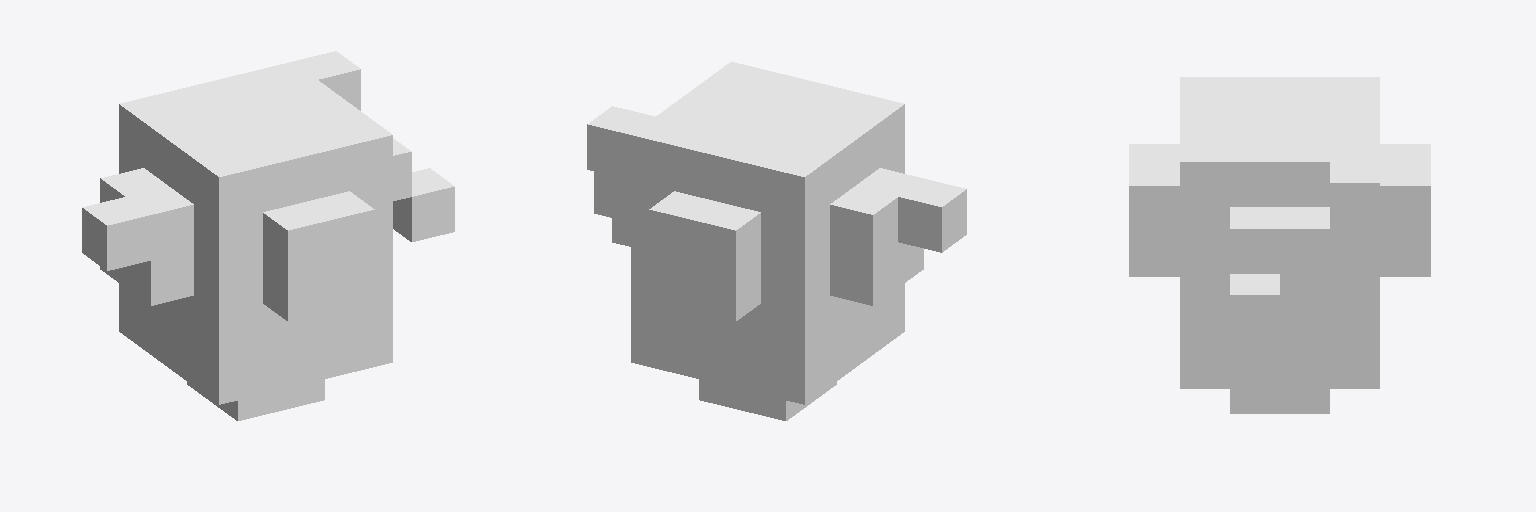
Rendered from farm-2-arbusto.obj.
3 views of the same model, side by side, from view 1: azimuth 30°, elevation 25°; view 2: azimuth 150°, elevation 25°; view 3: azimuth 270°, elevation 25° (orthographic).
Parts seen in each view (by area): view 1: arbusto; view 2: arbusto; view 3: arbusto.
Part boxes in pixels (left/top/right/bottom): arbusto: left=82, top=51, right=454, bottom=420; arbusto: left=587, top=62, right=966, bottom=420; arbusto: left=1129, top=77, right=1430, bottom=413.
Size of the model in its own units: 0.8 by 0.6 by 0.6.